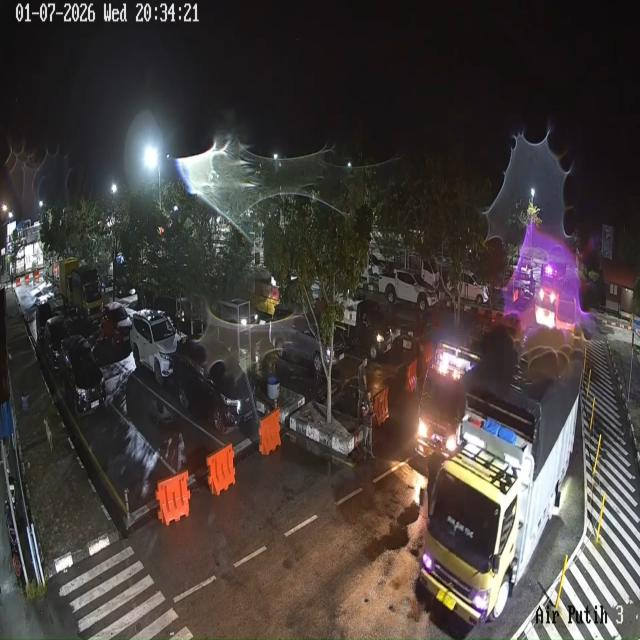Golongan IVA: (174, 339, 256, 433), (269, 304, 346, 375), (59, 334, 106, 416), (130, 309, 179, 386), (42, 316, 70, 370), (100, 301, 132, 347), (35, 300, 54, 342)
Golongan IVB: (336, 298, 401, 360), (378, 270, 439, 311)
Golongan VB: (420, 354, 582, 625), (415, 341, 480, 458), (59, 257, 102, 322)
